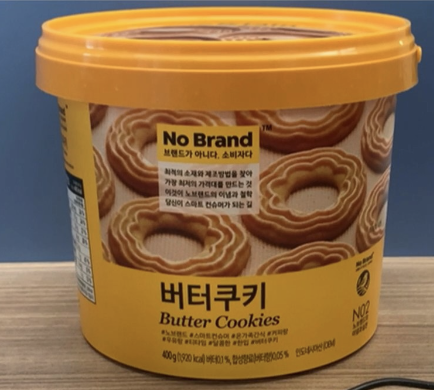cookies_400g-499g: (92, 104, 377, 357)
